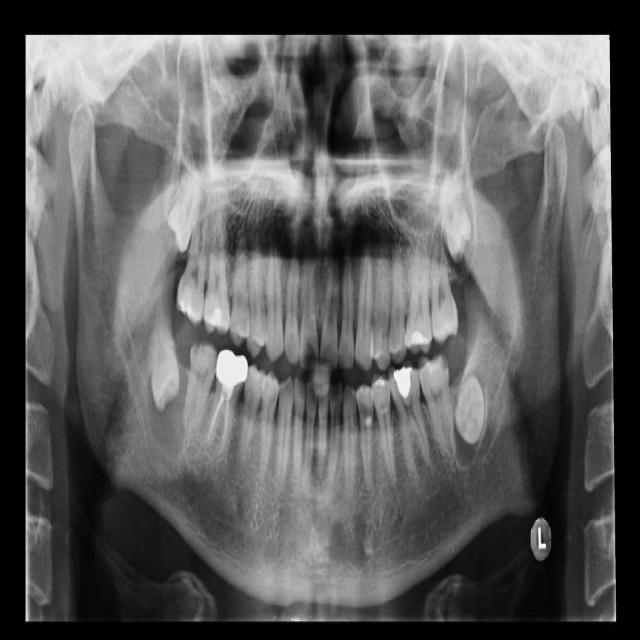3M ESPE Implant: (160, 157, 210, 256)
52: (379, 356, 426, 404), (411, 349, 456, 394), (211, 347, 253, 393), (175, 274, 207, 326), (203, 286, 232, 335), (403, 315, 434, 355), (354, 382, 377, 425), (368, 370, 394, 408), (441, 355, 449, 374), (191, 344, 199, 356)
73: (197, 377, 243, 463), (624, 622, 630, 632)
BioHorizons Implant: (430, 207, 459, 346)
BioLife Implant: (435, 156, 476, 264)
Biomet 3i Implant: (452, 375, 487, 445)
Blue Sky Bio Implant: (414, 350, 458, 467)
Caries: (174, 191, 214, 326)
Implant: (179, 336, 221, 437)
Keystone Dental Implant: (145, 300, 183, 417)
